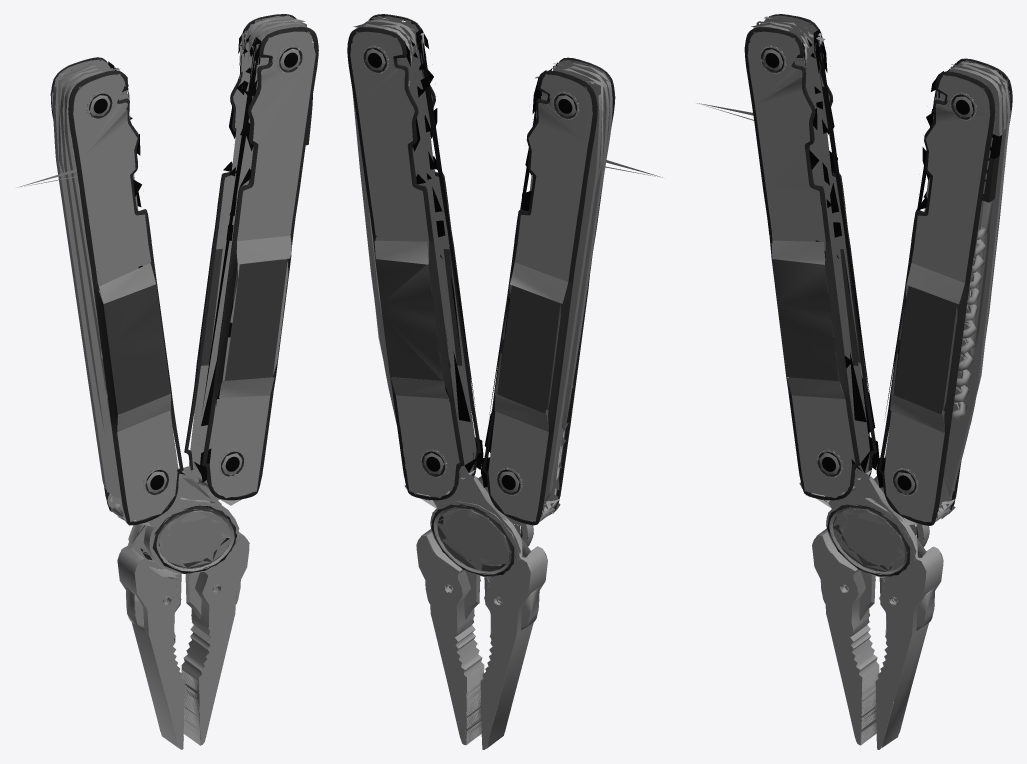
Rendered from multi-tool-open.glb.
3 views of the same model, side by side, from view 1: azimuth 30°, elevation 25°; view 2: azimuth 150°, elevation 25°; view 3: azimuth 330°, elevation 25° (orthographic).
Parts seen in each view (by area): view 1: Plane_023_Material_003_0; view 2: Plane_023_Material_003_0; view 3: Plane_023_Material_003_0.
Boxes of the visible parts, x1,y1,x2,y2 form: Plane_023_Material_003_0: [17, 14, 318, 749]; Plane_023_Material_003_0: [347, 14, 662, 749]; Plane_023_Material_003_0: [697, 14, 1012, 749].
Bounding box in the file's own units: 0.0682 × 0.15 × 0.0103.
Materials: 1 (1 with a texture image).
